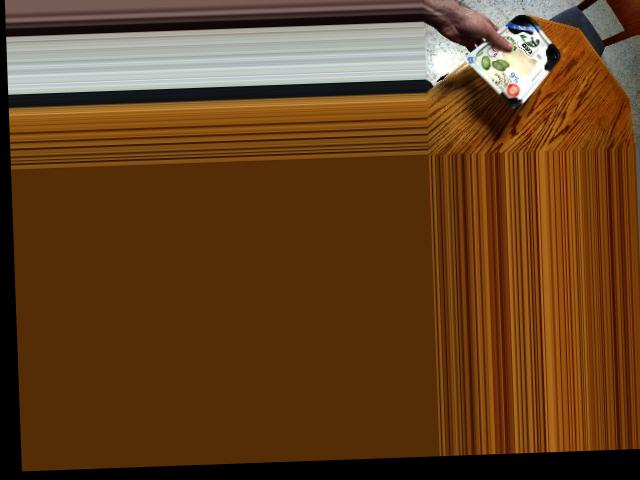cheese: (492, 18, 550, 100)
